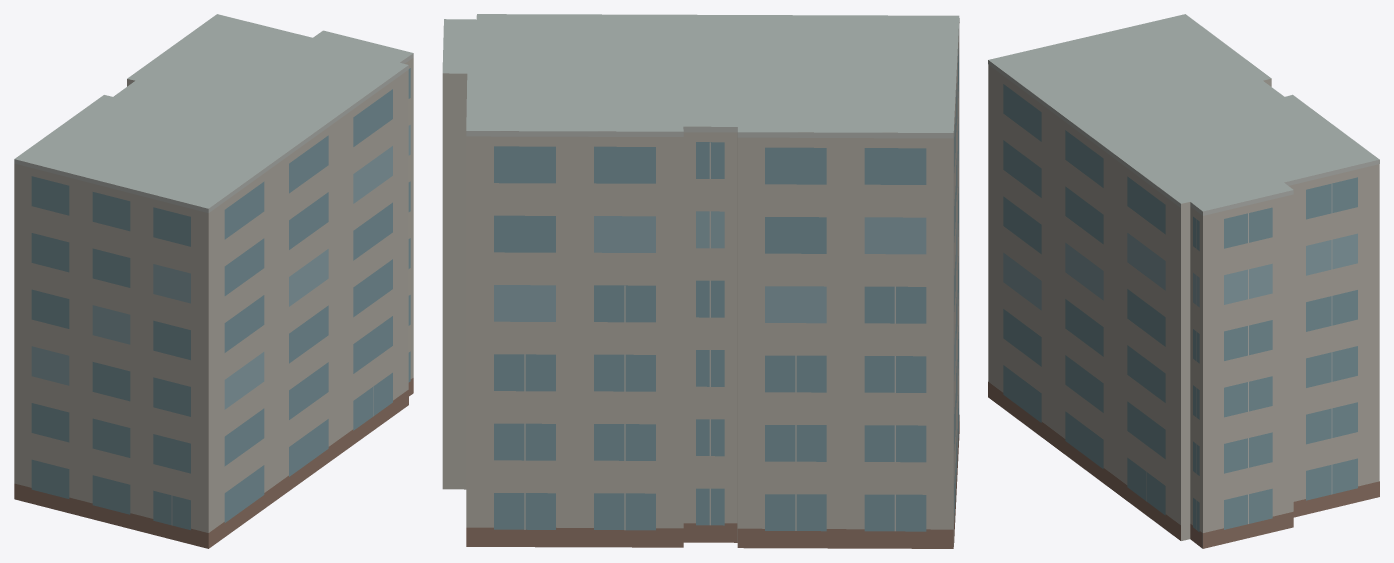
Rendered from survey-upis-33042012.glb.
3 views of the same model, side by side, from view 1: azimuth 30°, elevation 25°; view 2: azimuth 150°, elevation 25°; view 3: azimuth 270°, elevation 25° (orthographic). The views are drawn at different scales.
Visible parts, largest first — view 1: survey-upis-33042012.tmp; view 2: survey-upis-33042012.tmp; view 3: survey-upis-33042012.tmp.
Part boxes in pixels (x1,y1,x2,y2): survey-upis-33042012.tmp: (14,14,413,548); survey-upis-33042012.tmp: (442,14,959,548); survey-upis-33042012.tmp: (988,14,1379,548).
Bounding box in the file's own units: 23.37 × 18.6 × 19.58.
